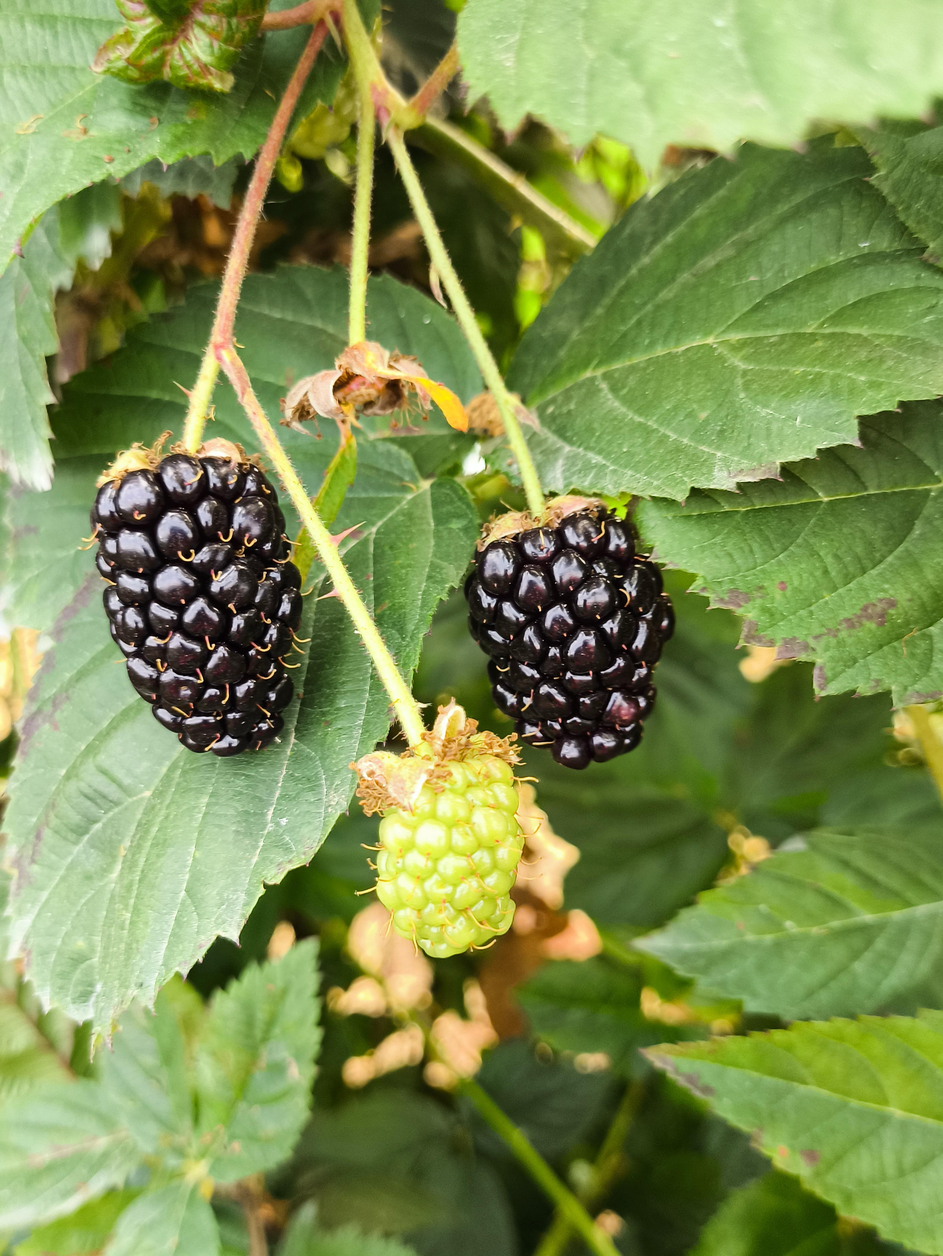maduro: (81, 444, 291, 746), (481, 498, 656, 777)
verde: (378, 754, 521, 959)
